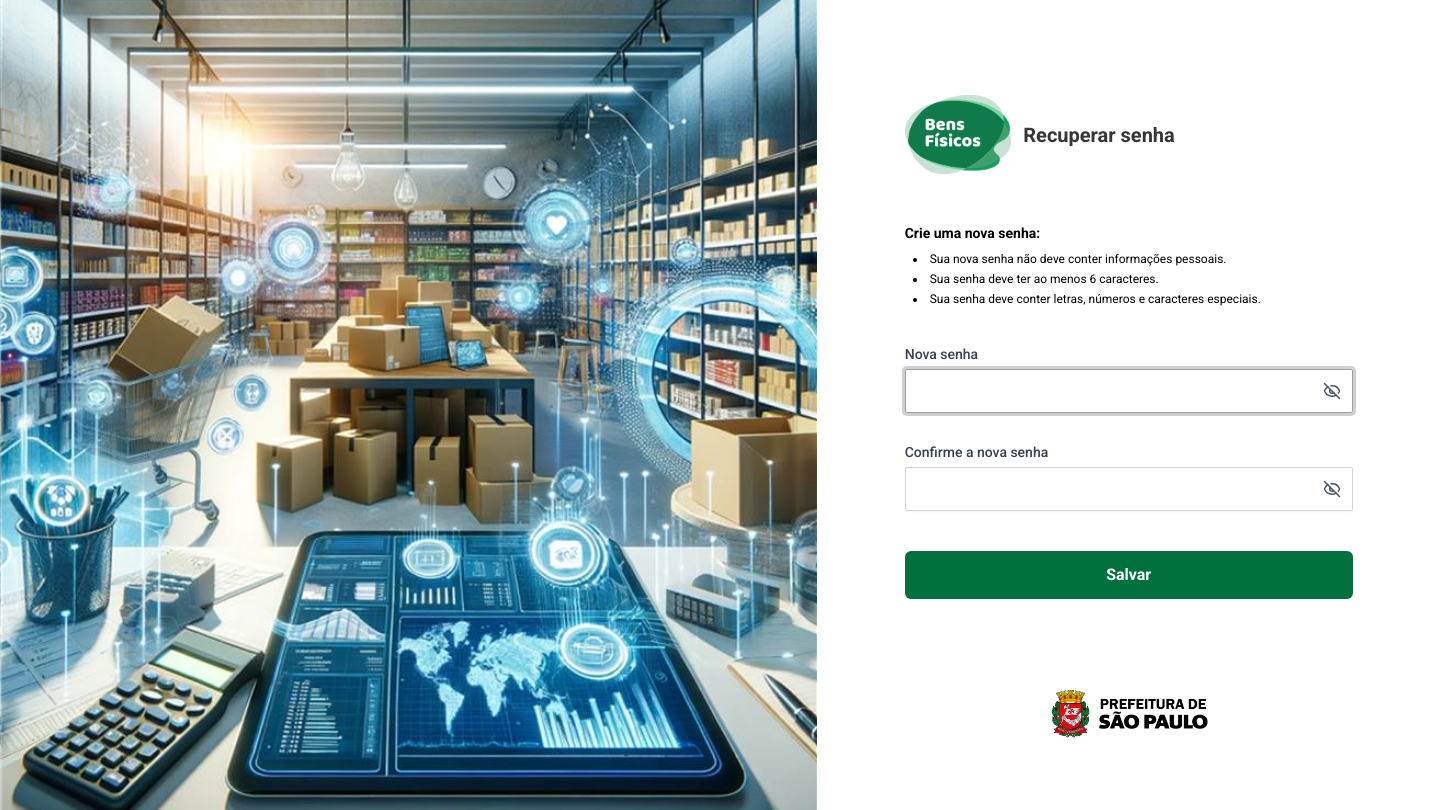
Test: ResetPasswordPage › Validações › mostra erro quando senha não contém números
The image size is (1440, 810).
Type "AbCdEf!@#" into the password field named "password" at (1129, 390), box x1=905 y1=368 x2=1353 y2=412
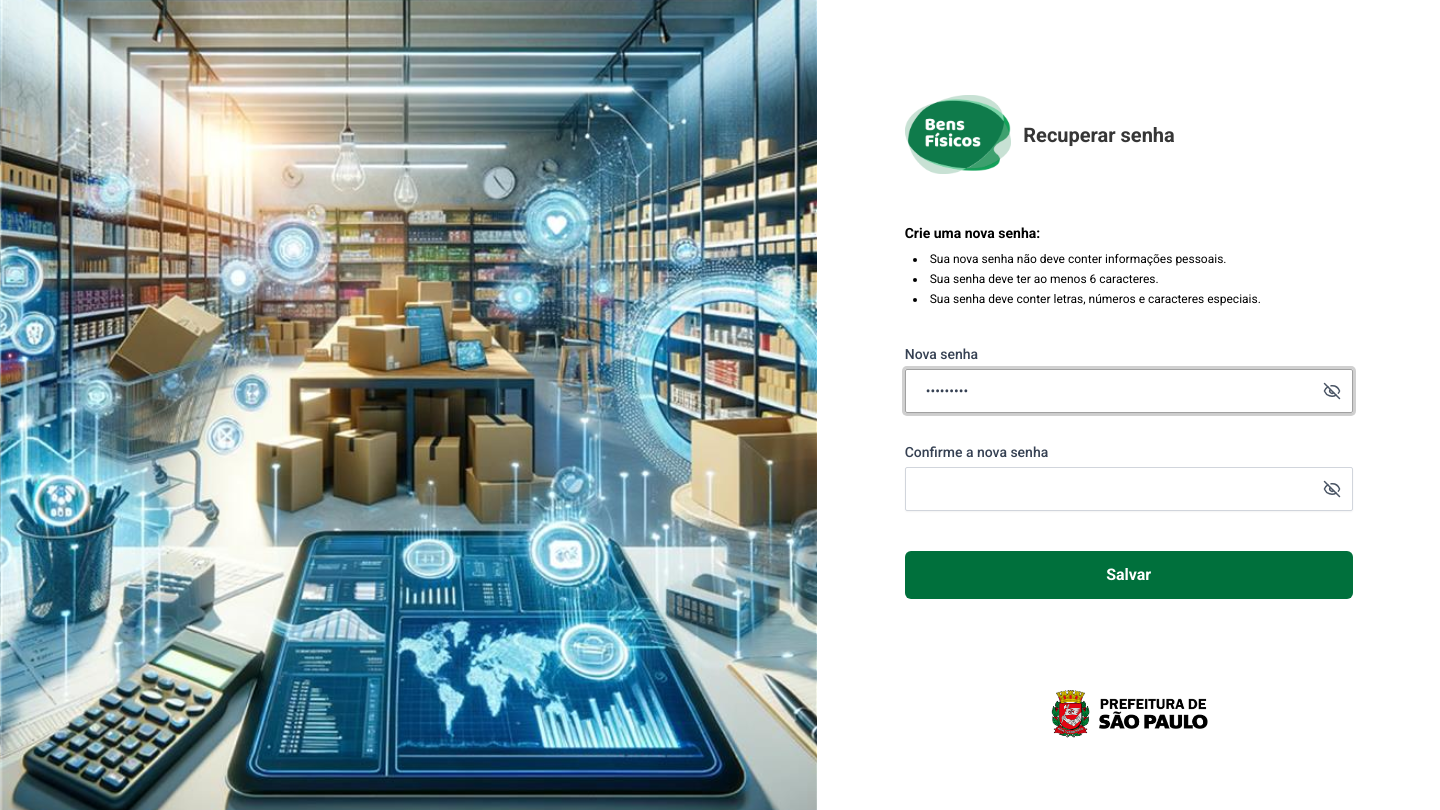
Type "AbCdEf!@#" into the password field named "confirmPassword" at (1129, 488), box x1=905 y1=466 x2=1353 y2=510
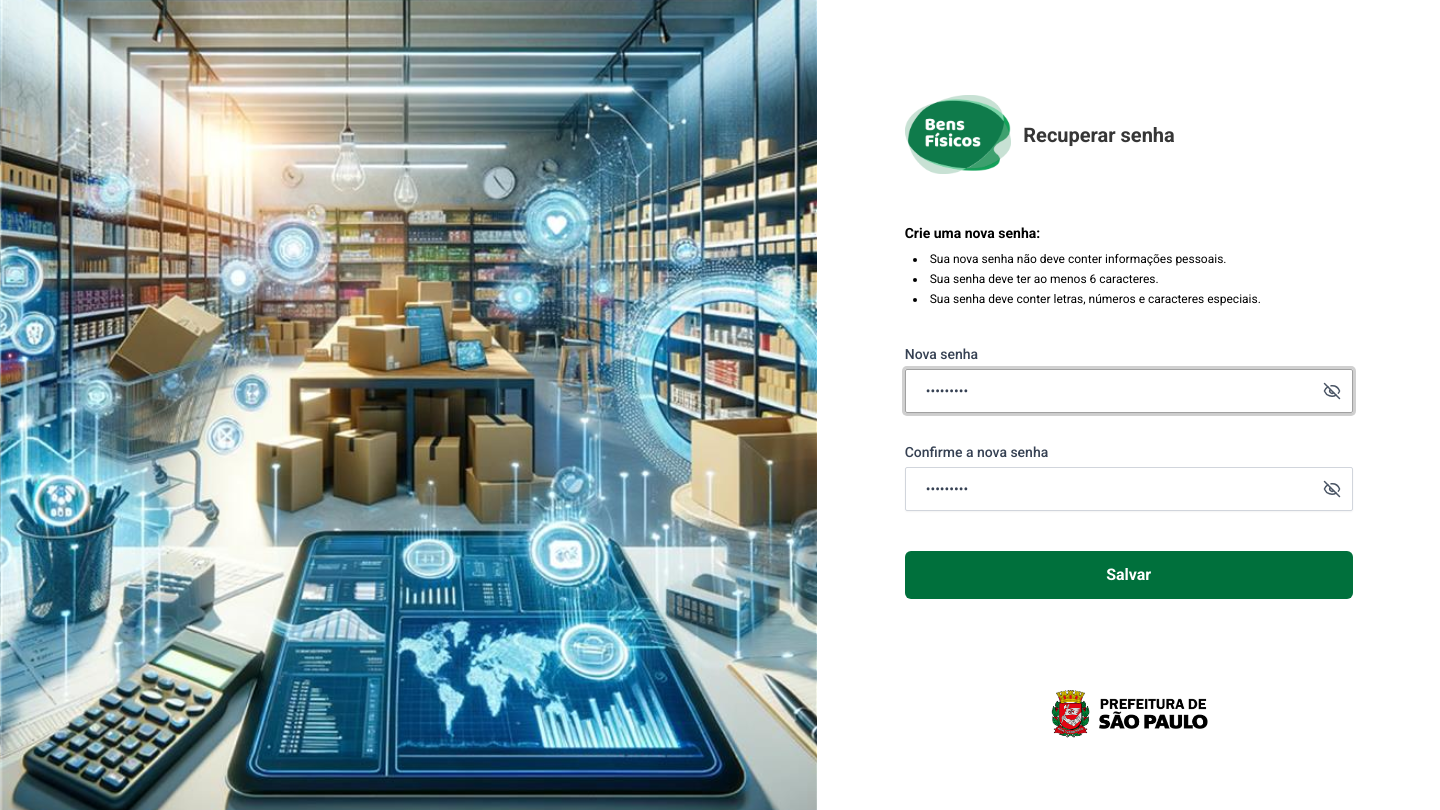
Click the button "Salvar" at (1129, 574), box x1=905 y1=550 x2=1353 y2=598
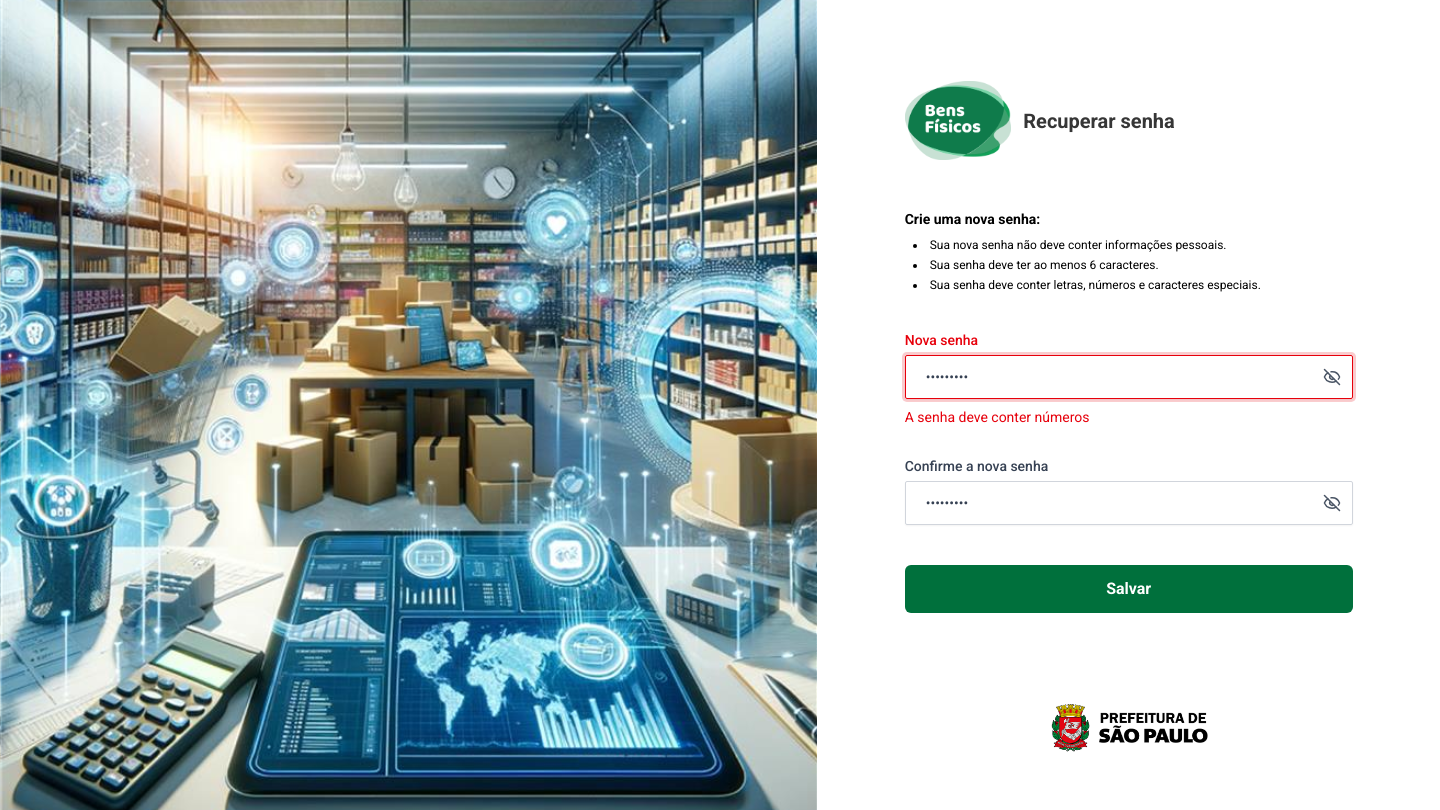
Check: the text "A senha deve conter números" is shown, box x1=905 y1=408 x2=1090 y2=424
